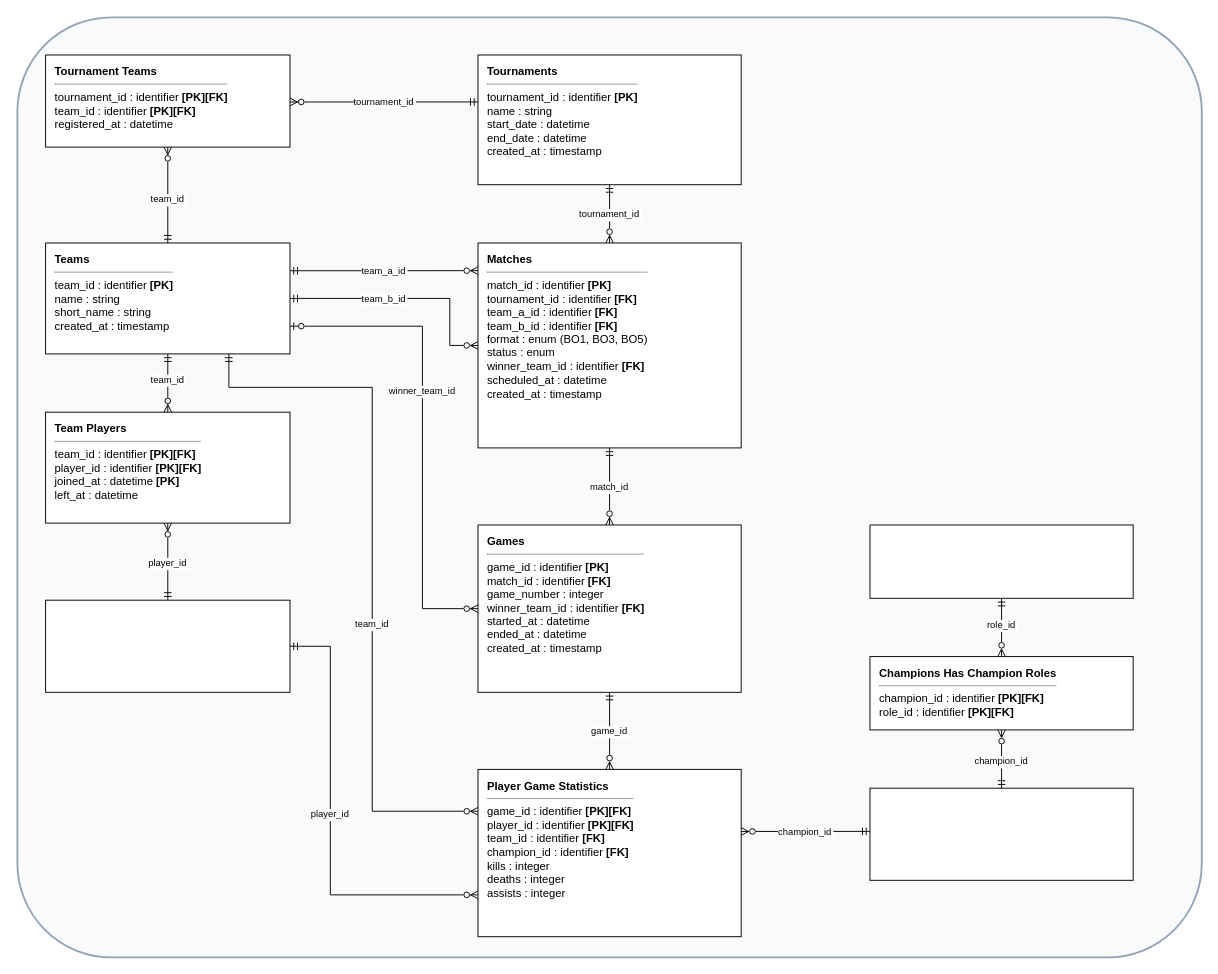
Image size: 1218x974. Some labels were removed from this diagram. The shapes that lost their labels are listed below. From the top down, each one's centre as x and y in pixels, then its label:
At pixel 1001 561: "Champion Roles role_id : identifier [PK] name : string".
At pixel 167 645: "Players player_id : identifier [PK] nickname : string created_at : timestamp".
At pixel 1001 833: "Champions champion_id : identifier [PK] name : string released_at : date".
